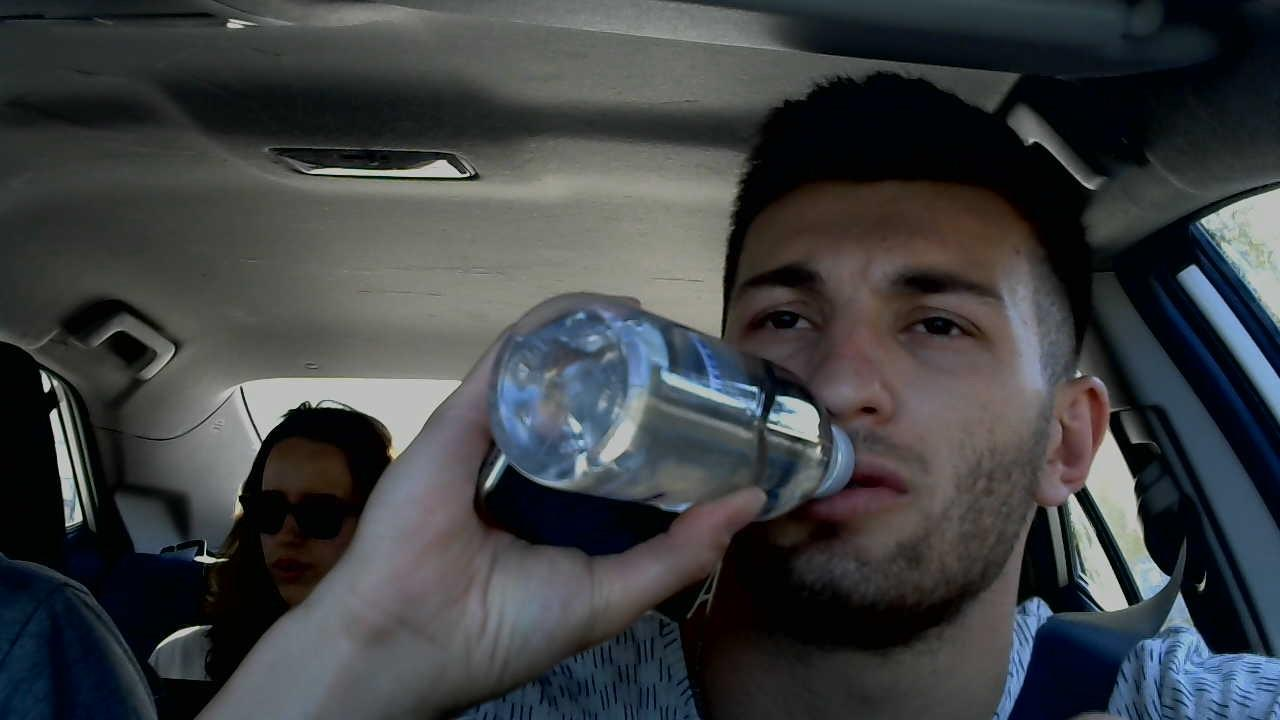Drinking: (488, 293, 854, 500)
